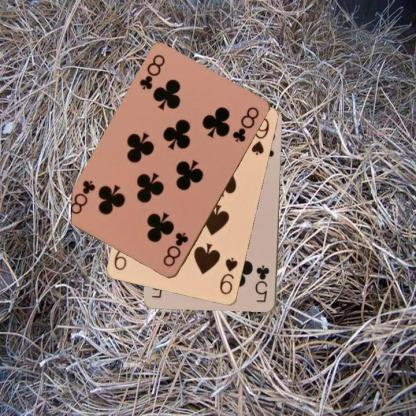5c: (253, 262, 271, 304)
8c: (136, 52, 166, 92), (160, 229, 190, 268)
9s: (217, 255, 239, 296)
